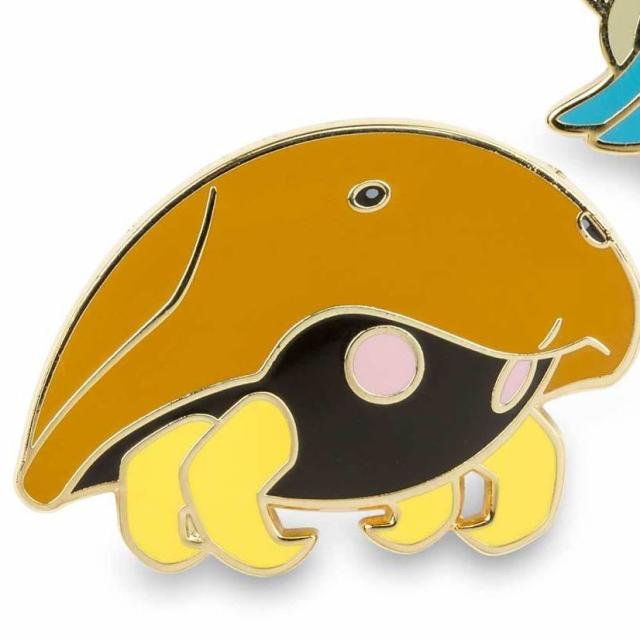Kabuto: (15, 130, 638, 570)
